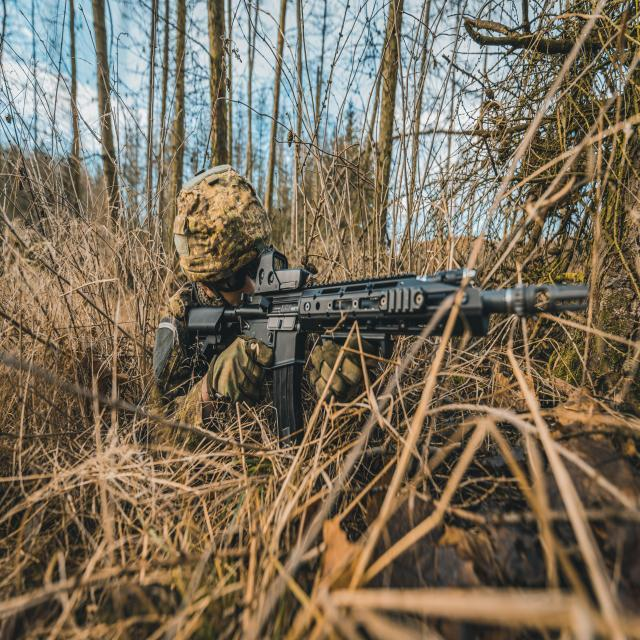weapon: (185, 250, 592, 448)
